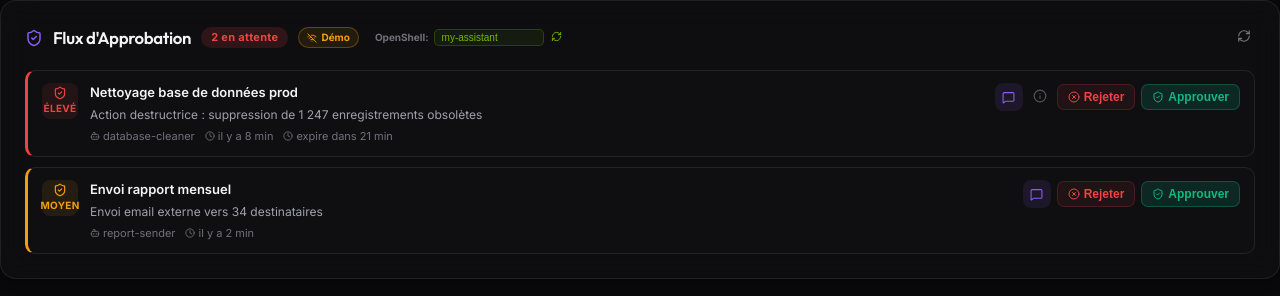
Test: ApprovalsWidget — approve / reject actions › shows empty state after all requests are handled
The image size is (1280, 296).
Click the button "Approuver" in the row of "Nettoyage base de données prod".
click(1191, 97)  # box [1141,84,1240,110]
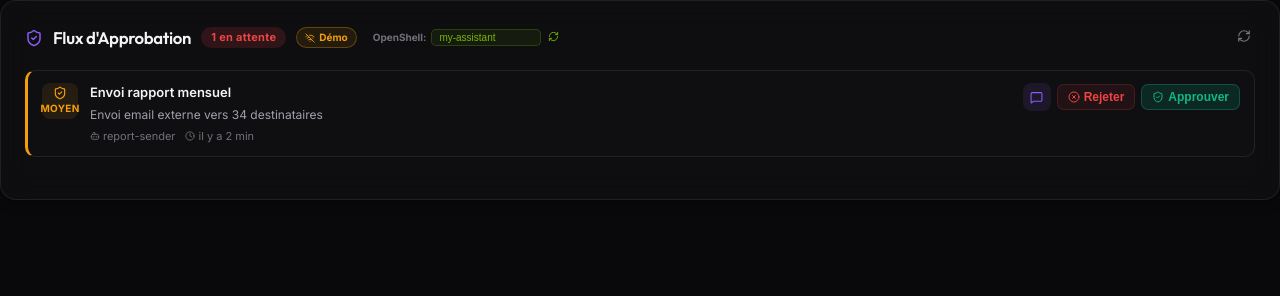
Click the button "Approuver".
click(1191, 97)  # box [1141,84,1240,110]
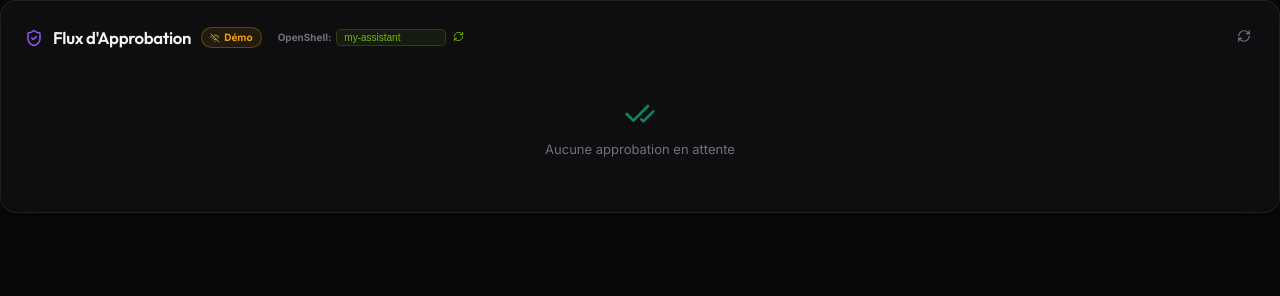
Check: the text "Aucune approbation en attente" is shown, box [545,141,735,157]
